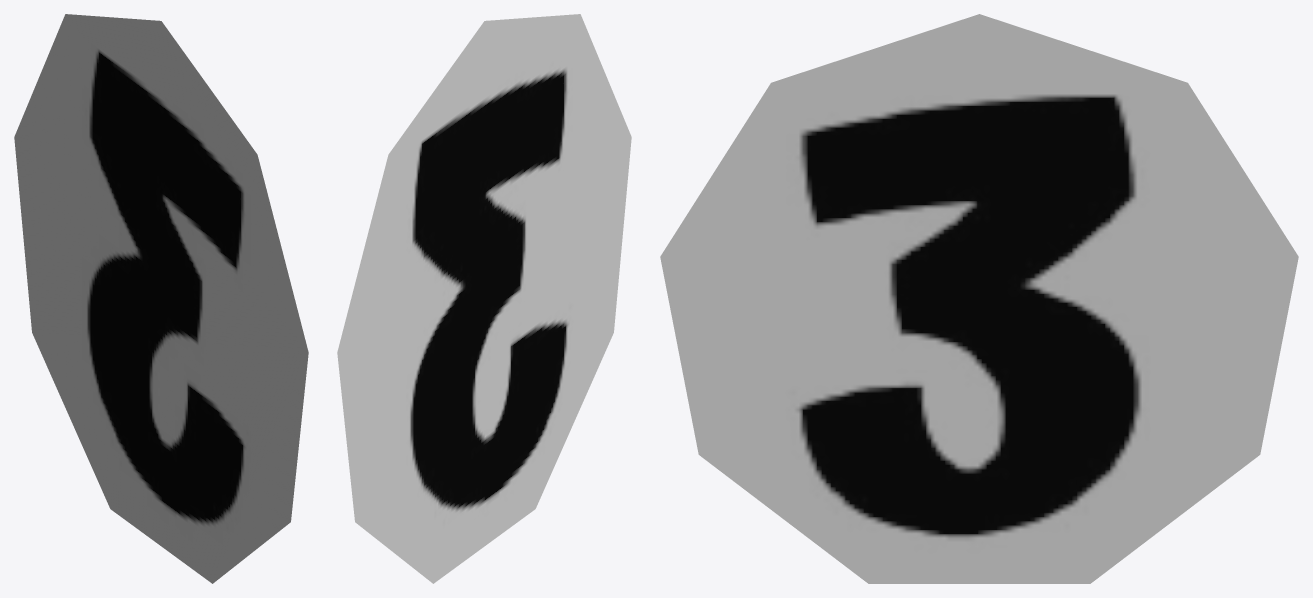
The picture shows the model from 3 angles, left to right: view 1: azimuth 30°, elevation 25°; view 2: azimuth 150°, elevation 25°; view 3: azimuth 270°, elevation 25°; orthographic projection. The views are drawn at different scales.
Parts seen in each view (by area): view 1: one; view 2: one; view 3: one.
Part boxes in pixels (x1,y1,x2,y2): one: [14, 14, 308, 583]; one: [337, 14, 631, 583]; one: [660, 14, 1298, 583].
Bounding box in the file's own units: 1.07e-08 × 0.2459 × 0.2497.
1 material, 1 textured.
